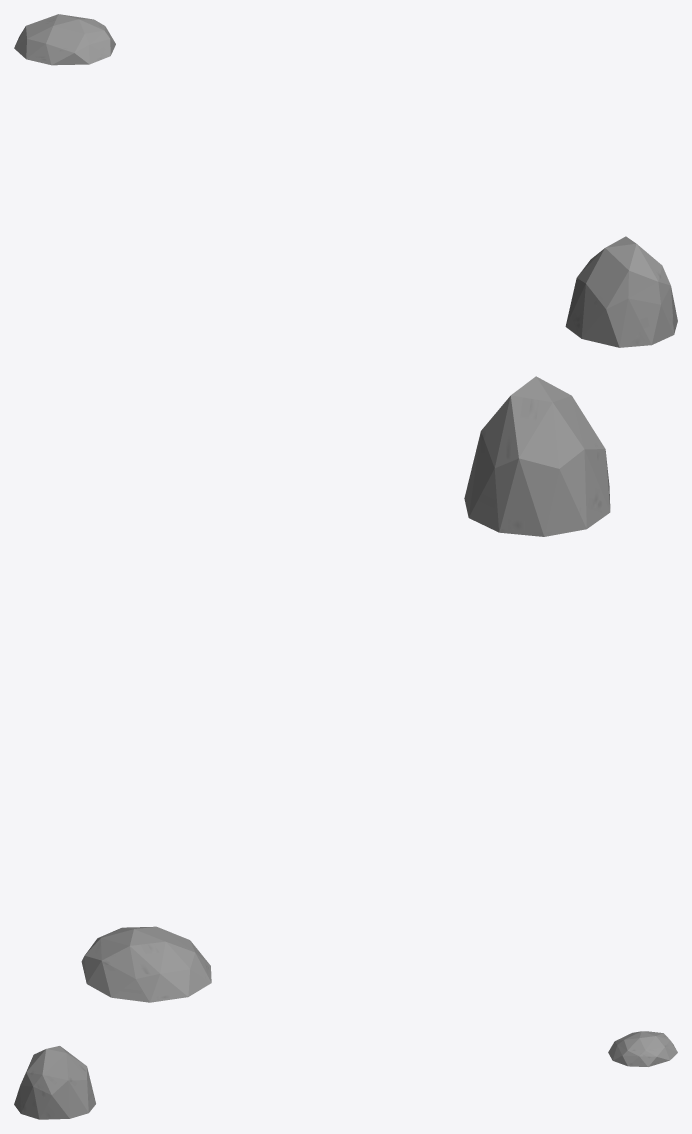
Rendered from Stones8.gltf.
The picture shows the model from 3 angles, top to bottom: view 1: azimuth 30°, elevation 25°; view 2: azimuth 150°, elevation 25°; view 3: azimuth 270°, elevation 25°; orthographic projection. The views are drawn at different scales.
Visible parts, largest first — view 1: Stone2.002 - copy.008, Stone3 - copy.003; view 2: Stone2.002 - copy.008, Stone3 - copy.003; view 3: Stone2.002 - copy.008, Stone3 - copy.003.
Boxes of the visible parts, <box> form: Stone2.002 - copy.008: <box>565,236,677,347</box>; Stone3 - copy.003: <box>14,14,115,65</box>; Stone2.002 - copy.008: <box>464,376,610,536</box>; Stone3 - copy.003: <box>81,926,211,1002</box>; Stone2.002 - copy.008: <box>14,1046,95,1119</box>; Stone3 - copy.003: <box>608,1031,677,1066</box>.
Size of the model in its own units: 4.35 by 1.52 by 15.71.
2 materials, 2 textured.
